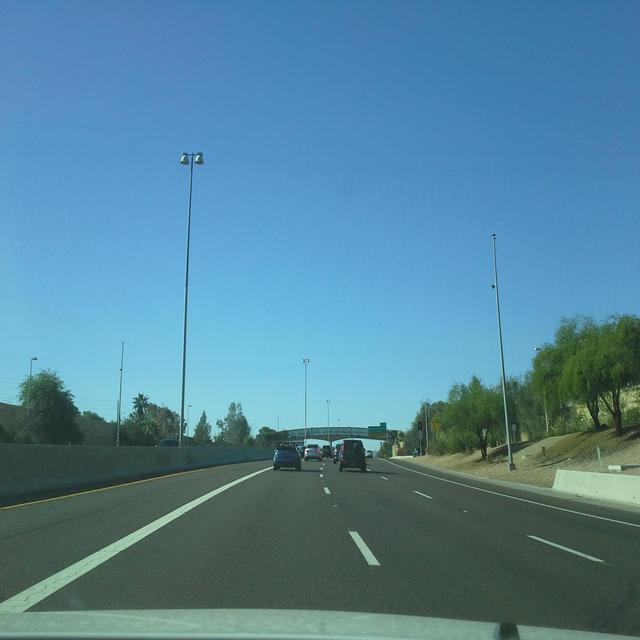Barrier: (0, 443, 274, 506), (551, 470, 639, 504)
Car: (273, 438, 365, 471), (155, 438, 178, 446), (412, 447, 419, 456)
Vegetation: (505, 309, 639, 443), (9, 366, 106, 444), (375, 441, 393, 457), (259, 425, 288, 433)
